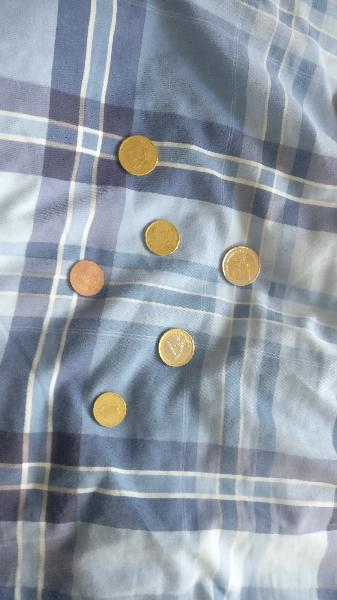Fifty Cent: (118, 135, 158, 176)
Five Cent: (68, 257, 106, 297)
One Euro: (157, 328, 195, 369)
Ten Cent: (90, 391, 129, 430)
Twenty Cent: (144, 219, 180, 258)
Two Euro: (222, 245, 262, 288)
